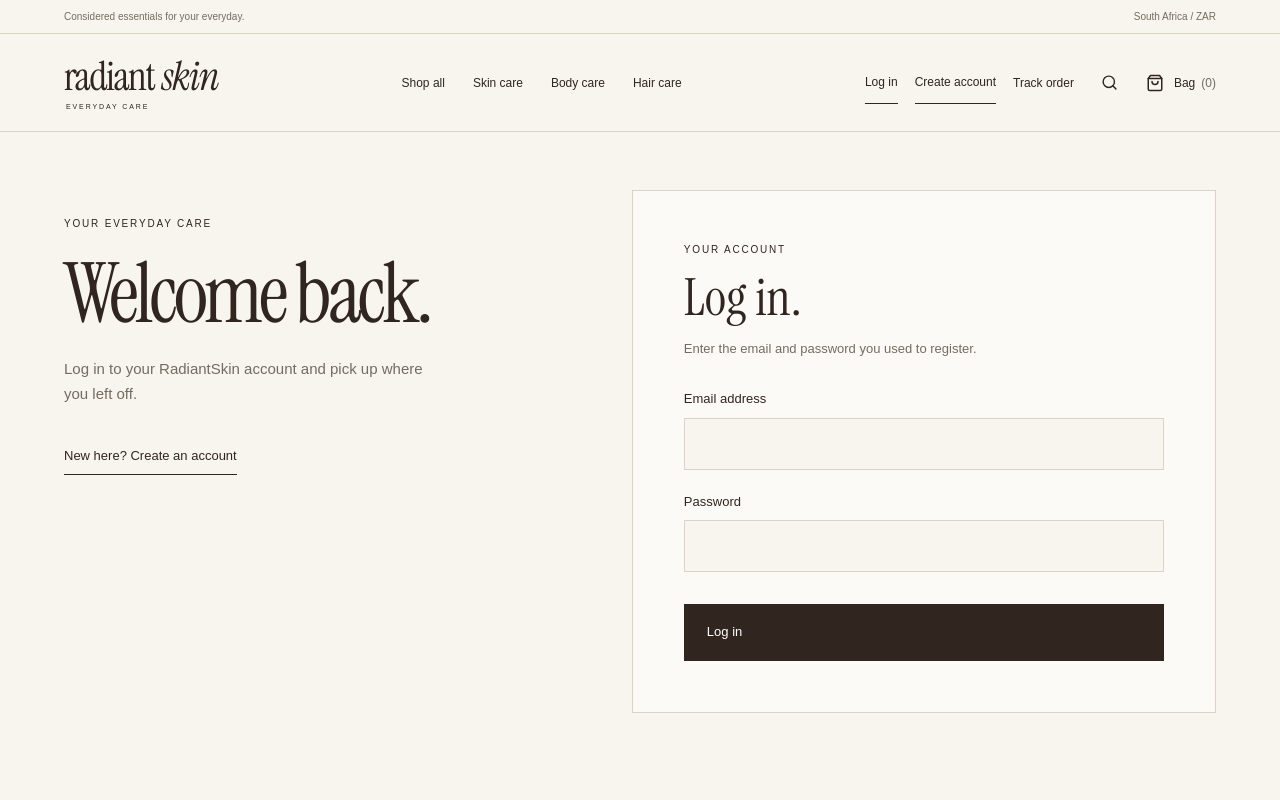
Scenario: shows a recoverable login connection error without signing in
The width and height of the screenshot is (1280, 800).
Type "Sam@Example.com" into the field labelled "Email address". click: (924, 444)
box: [684, 418, 1164, 470]
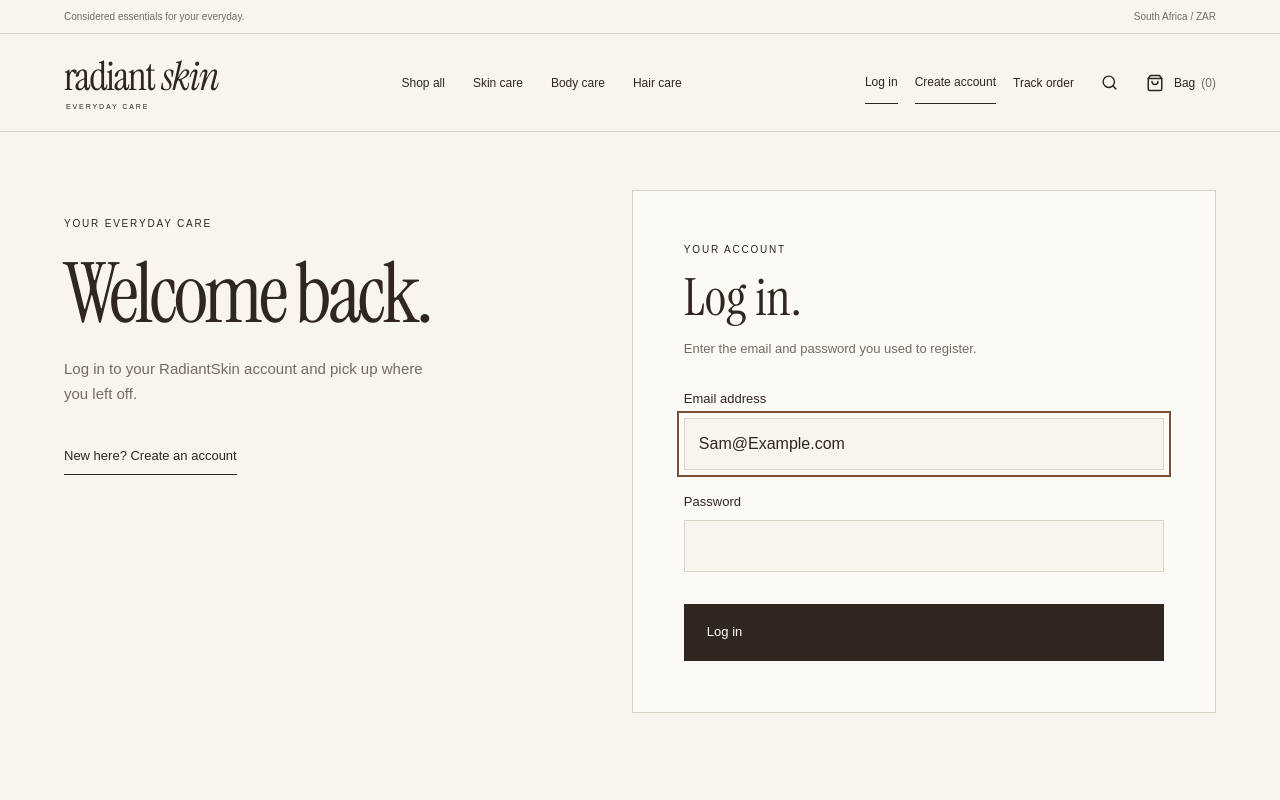
Type "SchoolLogin!2026" into the password field labelled "Password". click: (924, 546)
box: [684, 520, 1164, 572]
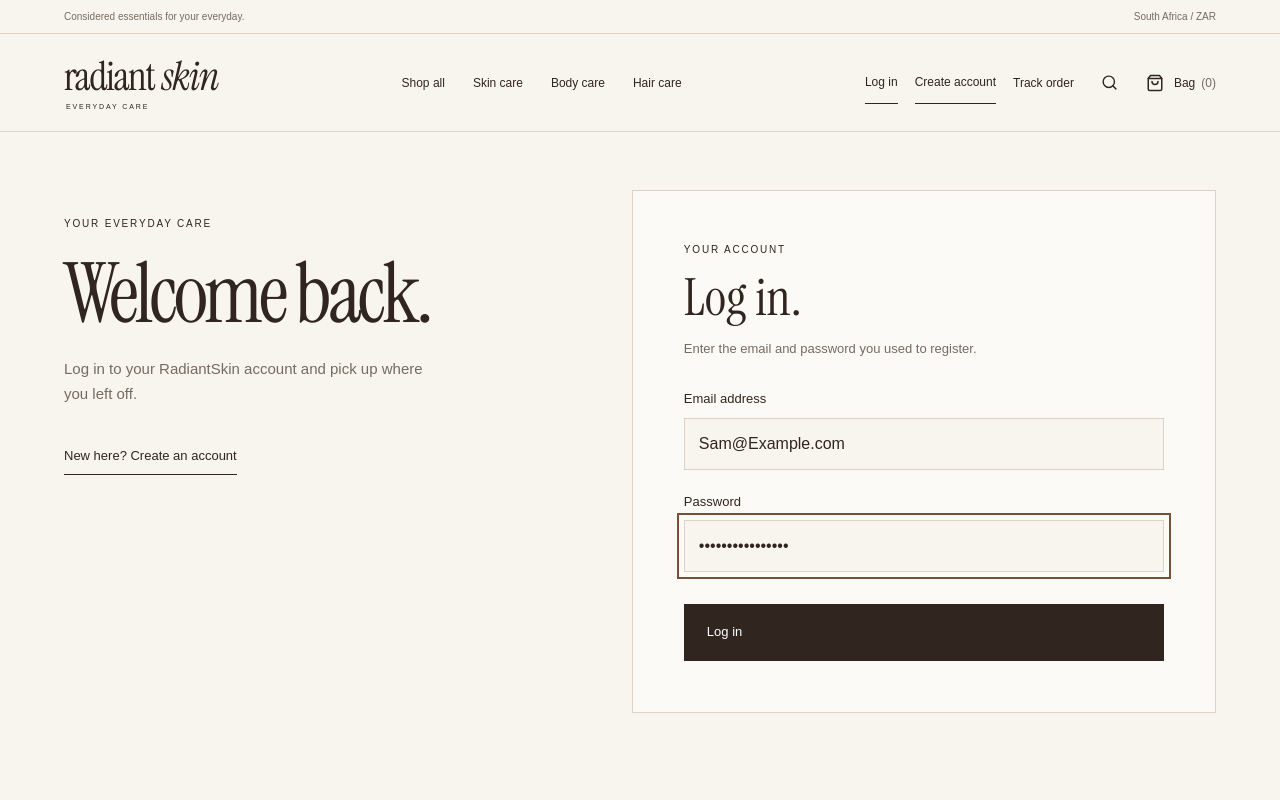
Click the button "Log in". click: click(725, 632)
box: [684, 604, 1164, 661]
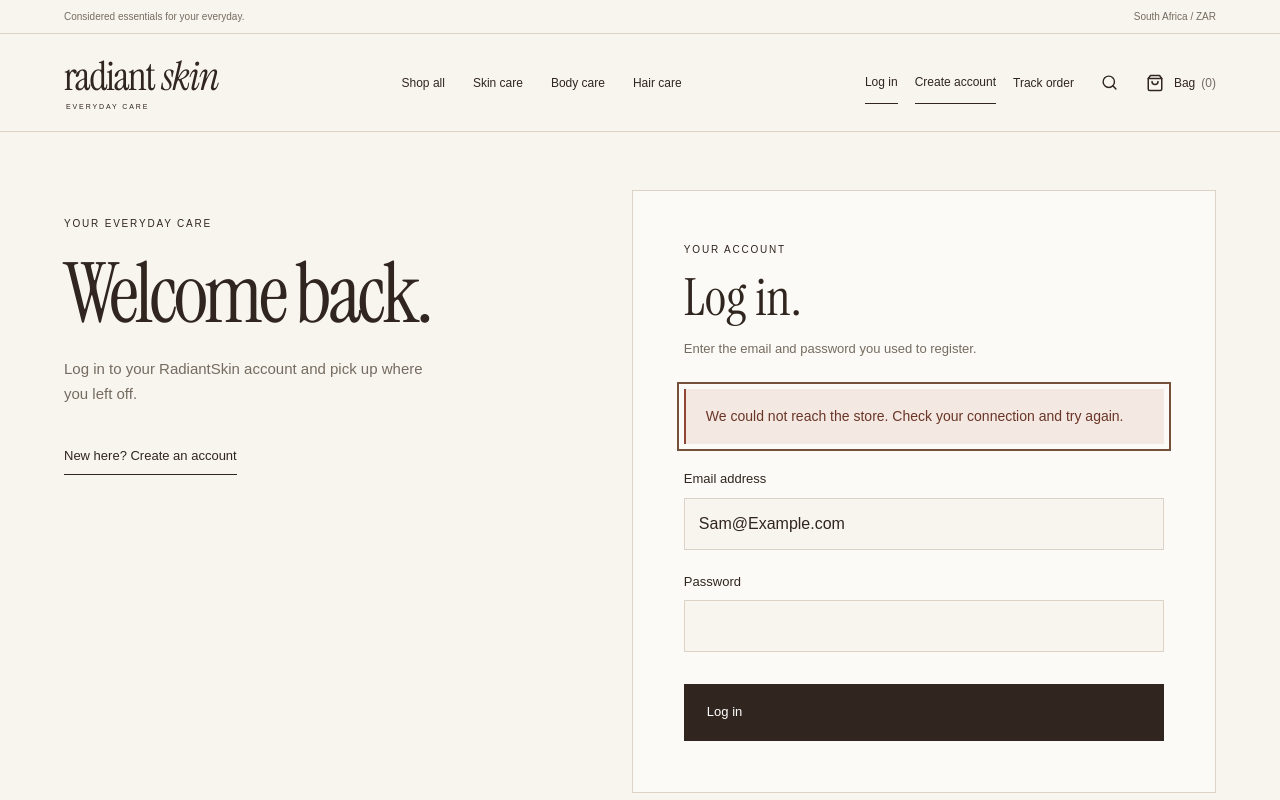
Expected: the message shows "reach the store", [706, 408, 1124, 424]
